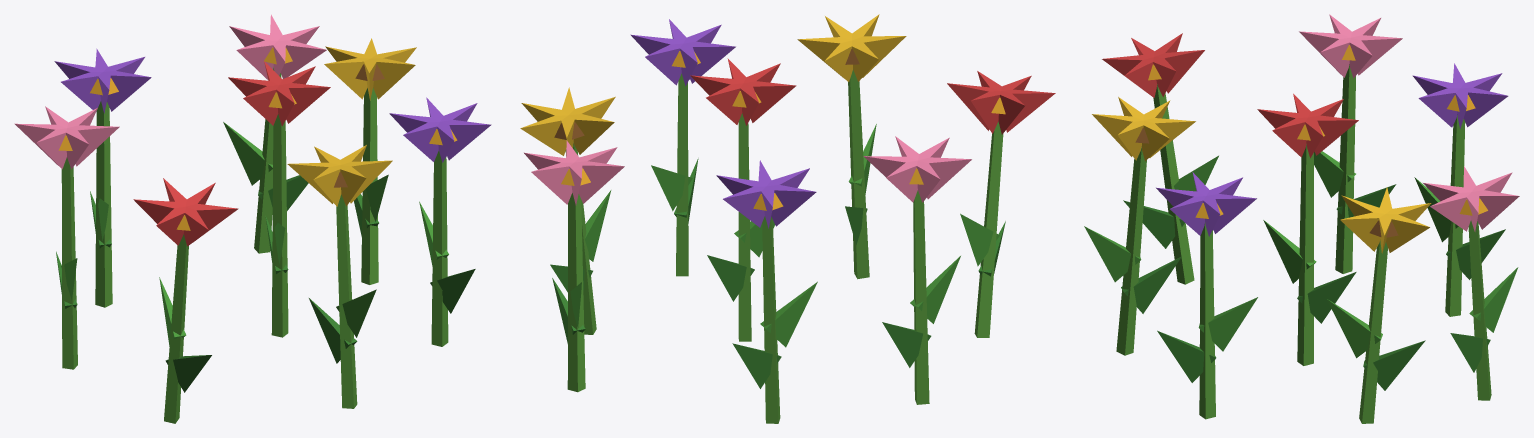
Rendered from flower-4.glb.
3 renders of one model, left to right at view 1: azimuth 30°, elevation 25°; view 2: azimuth 150°, elevation 25°; view 3: azimuth 270°, elevation 25°, orthographic. The views are drawn at different scales.
Parts seen in each view (by area): view 1: flower-4; view 2: flower-4; view 3: flower-4.
Boxes of the visible parts, bbox=[...] form: flower-4: bbox=[14, 14, 491, 423]; flower-4: bbox=[520, 14, 1055, 423]; flower-4: bbox=[1084, 14, 1519, 423].
Bounding box in the file's own units: 0.7598 × 0.4481 × 0.7091.
1 material, 1 textured.
